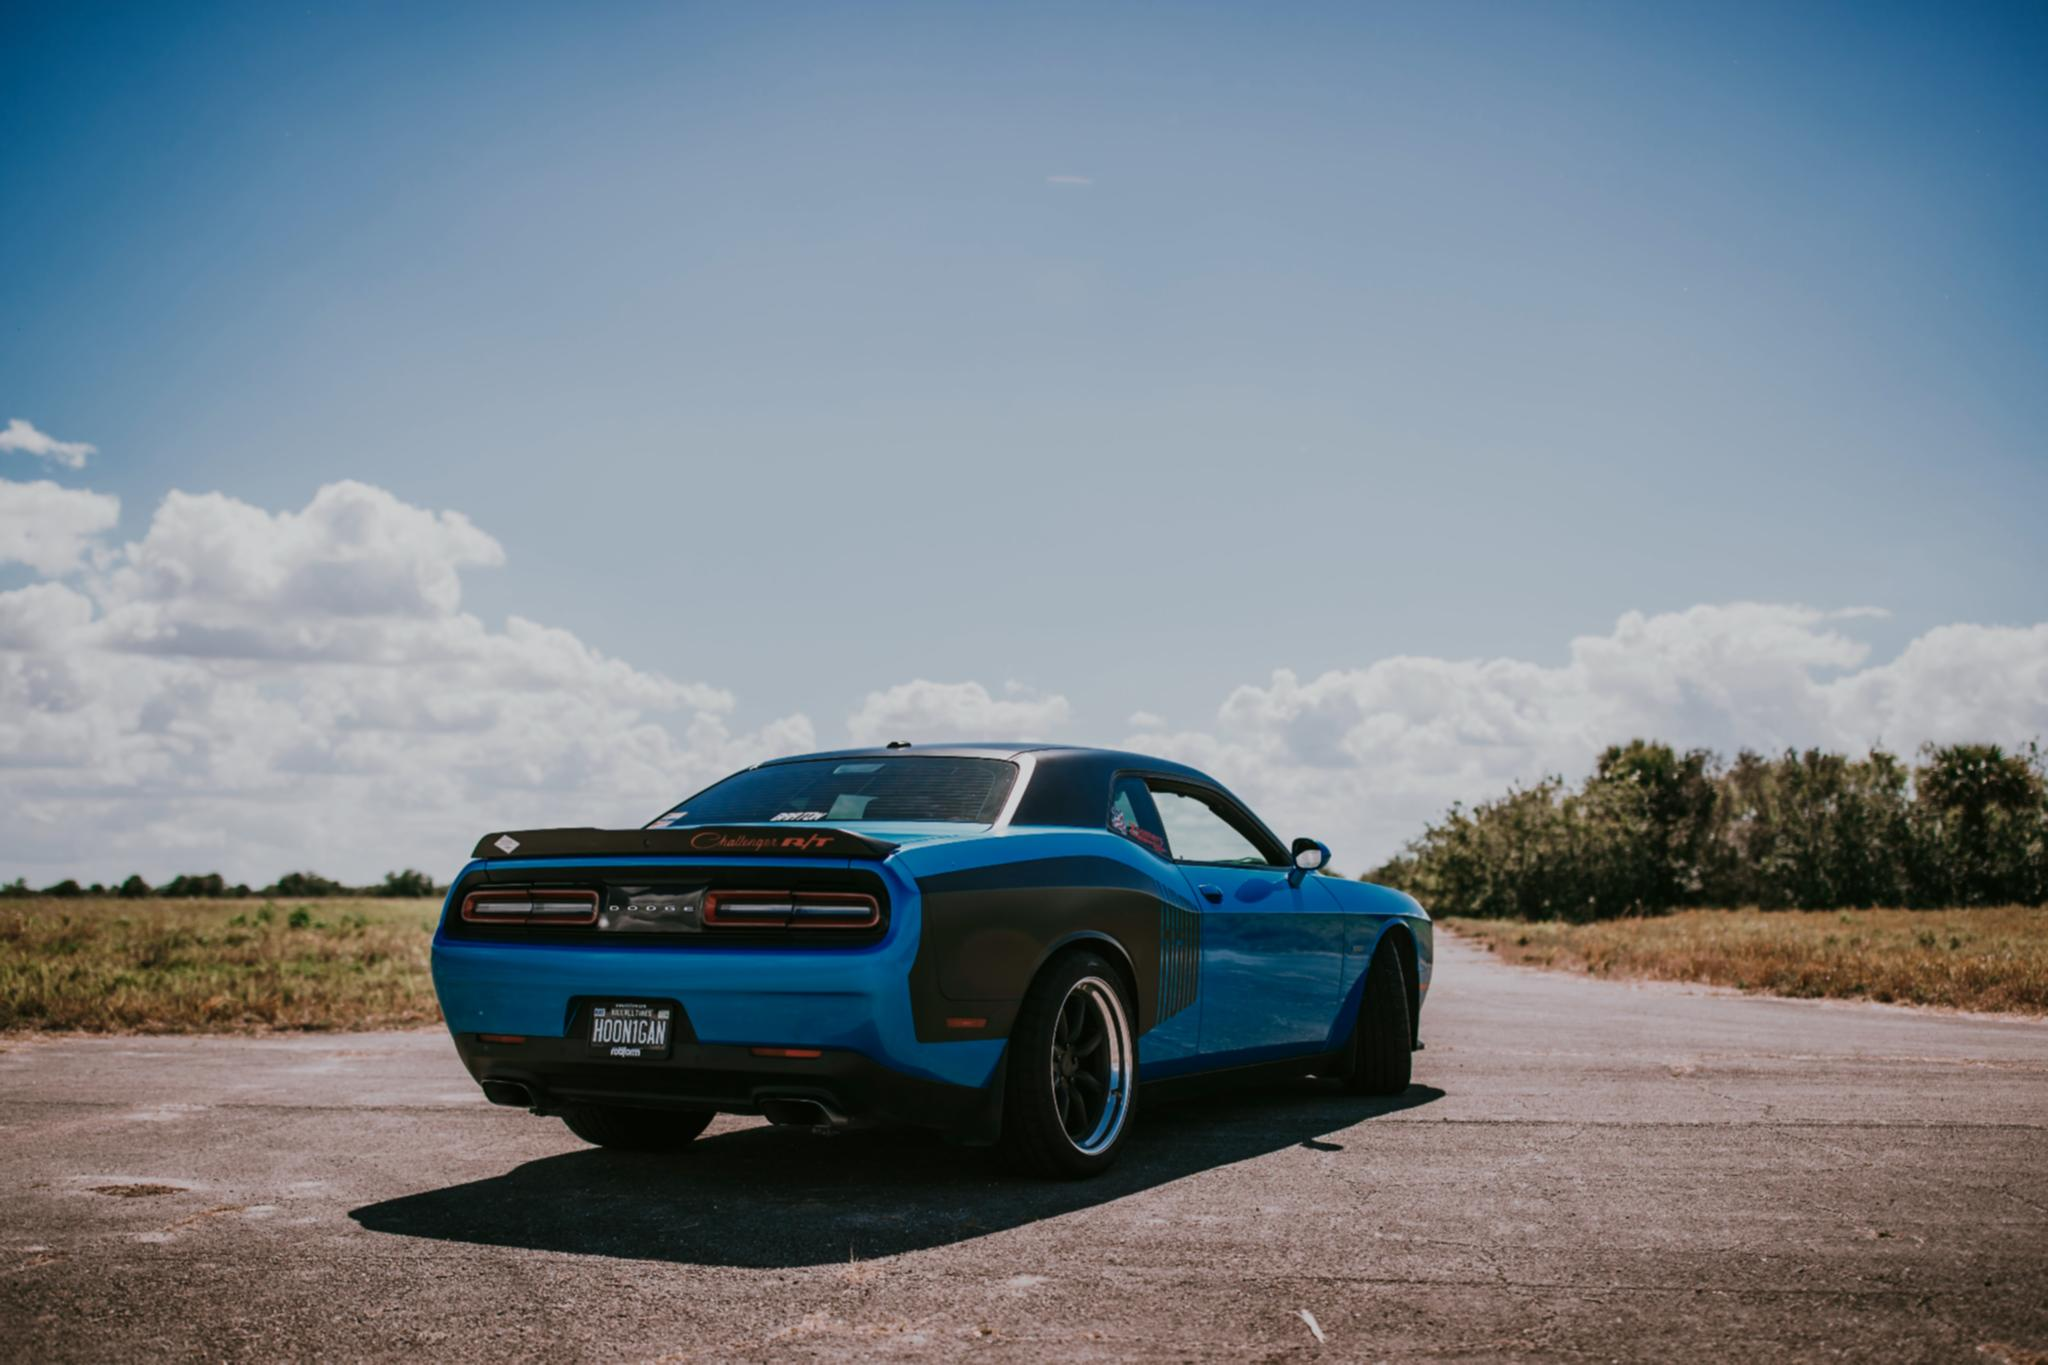dodge: (594, 890, 705, 923)
